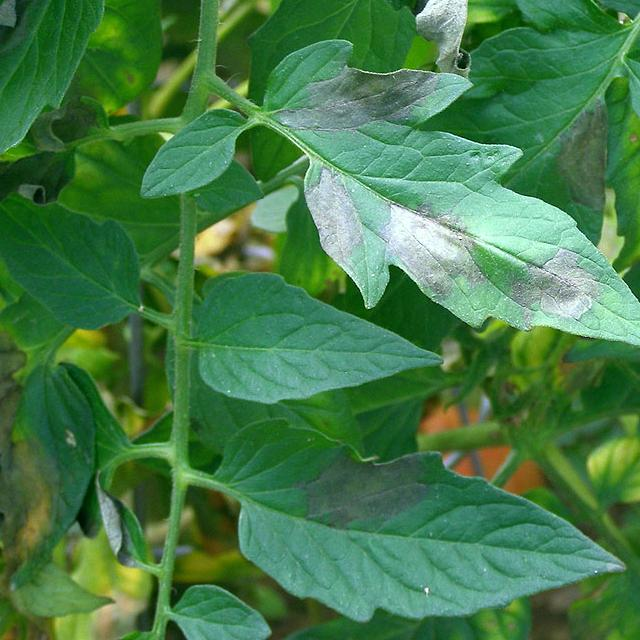Tomato leaf late blight: (245, 64, 640, 346), (201, 438, 637, 627), (0, 0, 121, 297), (5, 336, 98, 580), (602, 106, 640, 350)
